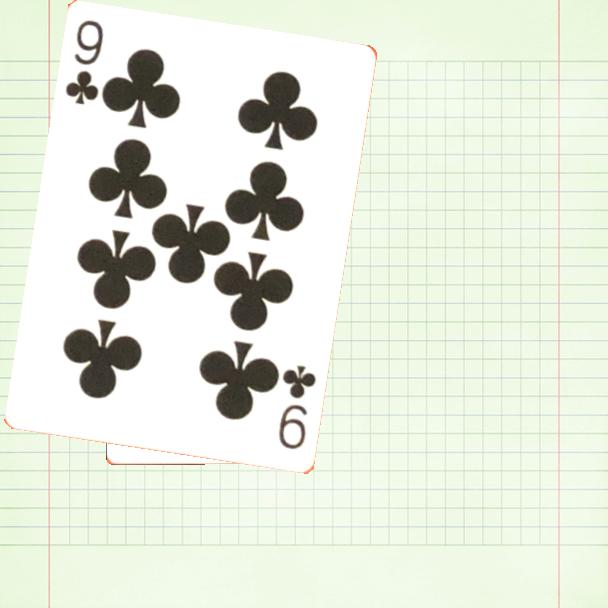c09: (62, 17, 107, 109), (275, 362, 320, 453)
